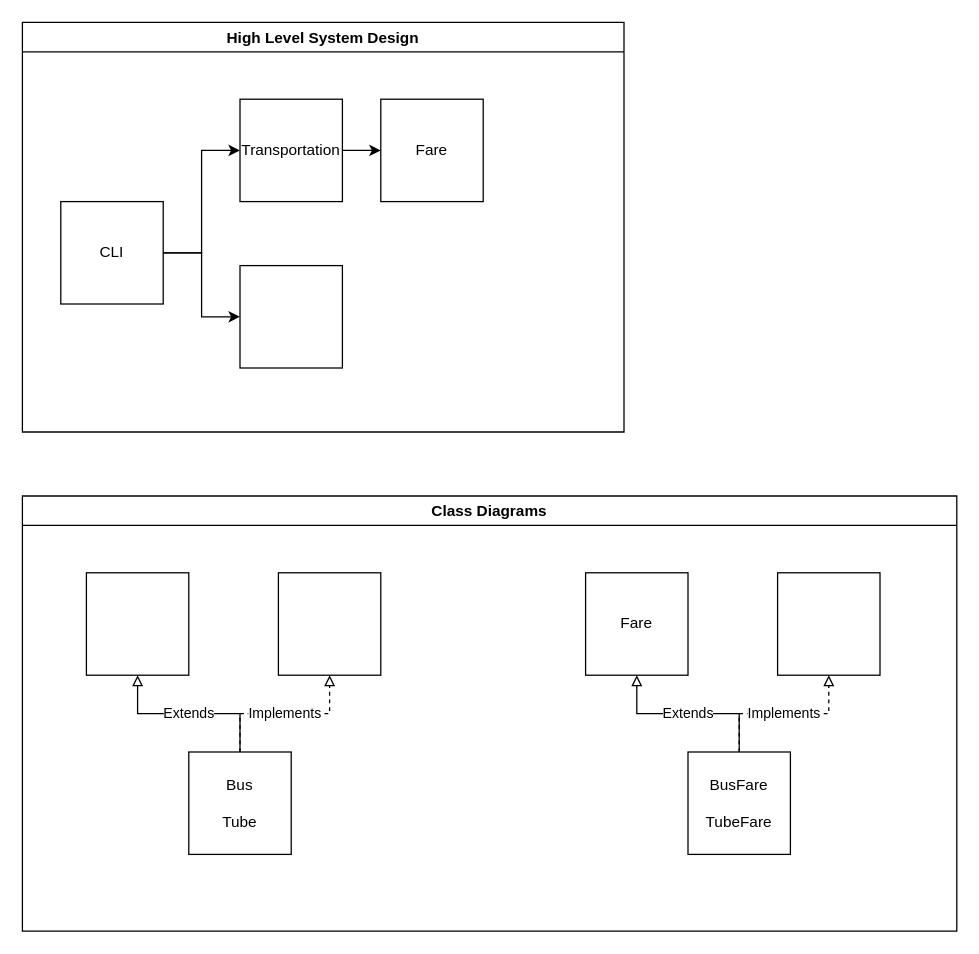
Some shapes in this 979 by 954 pixel diagram are drawn without their labels. The centre of each missing label's shape, as x and y in pixels:
"Card" belongs at (290,316).
"IFare" belongs at (828,623).
"ITransportation (Interface)" belongs at (329,623).
"Transportation (Abstract Class)" belongs at (137,623).
